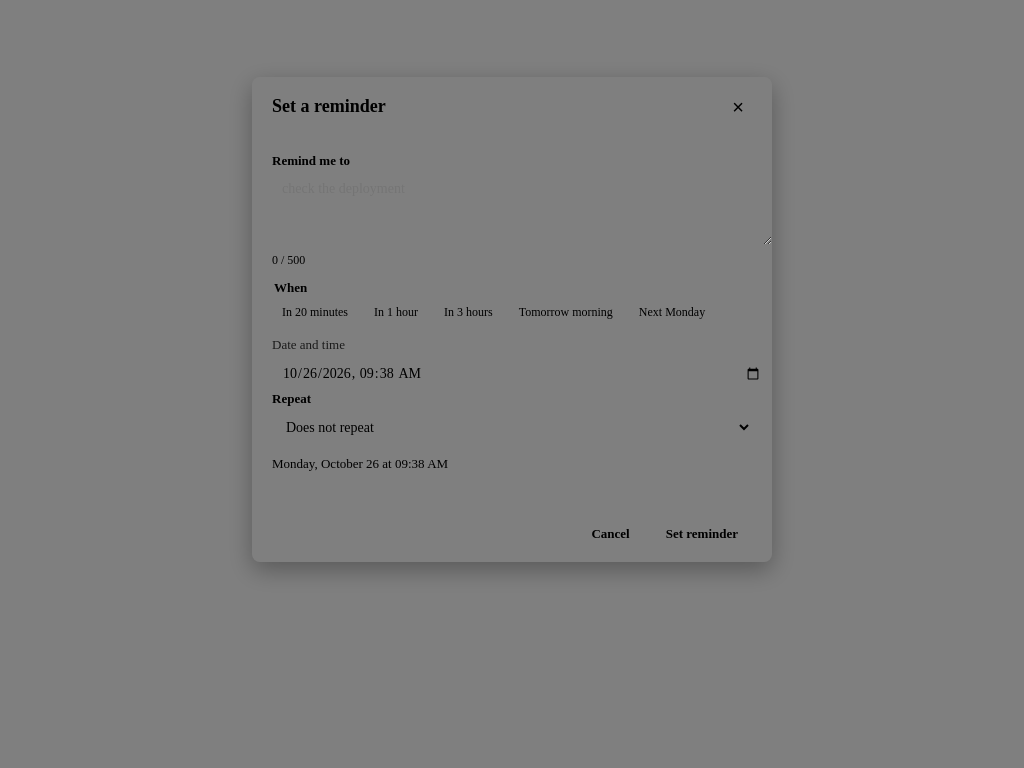
Test: ReminderModal › refuses an empty message
Click the button "Set reminder" at (702, 534), box [652,518,752,550]
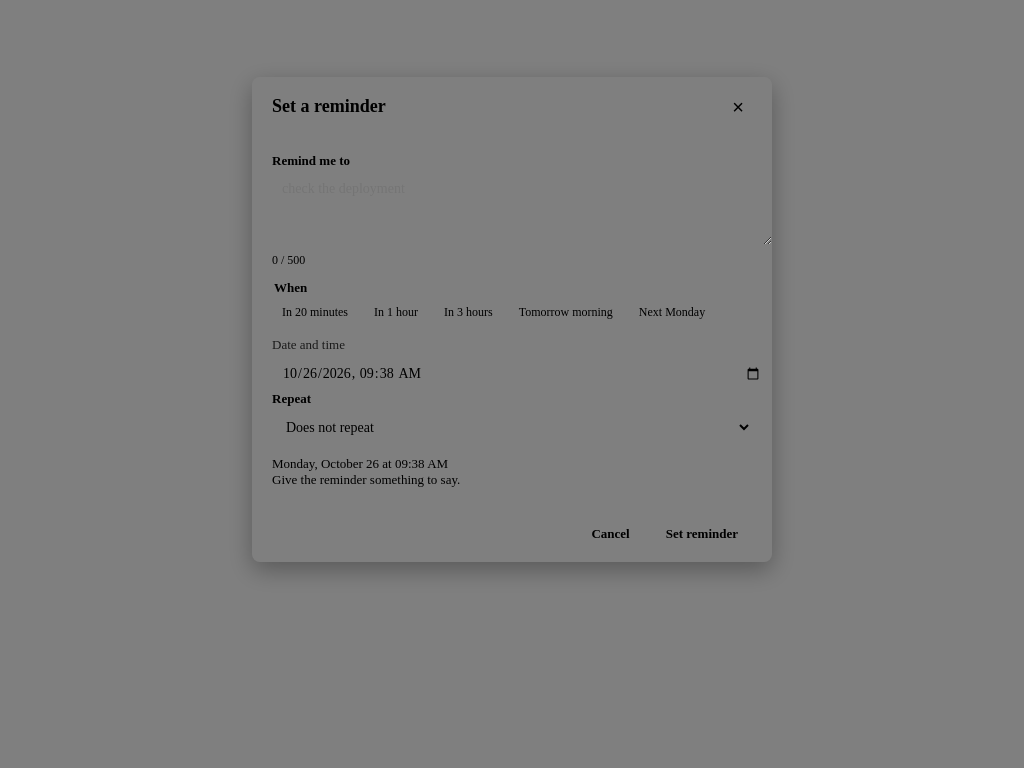
Result: the message shows "Give the reminder something to say" at [272,472,460,487]
